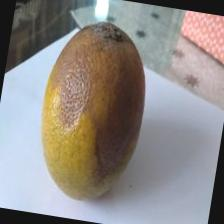Orange Rotten: (24, 8, 164, 220)
